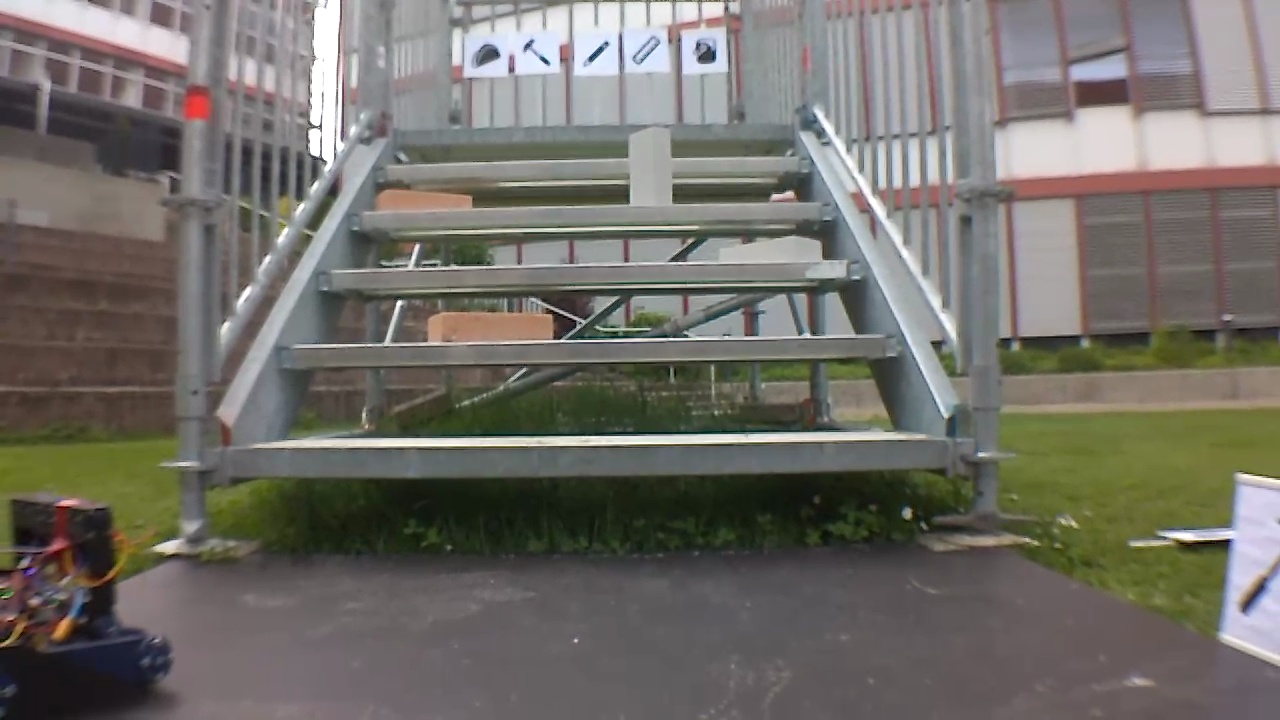brick: (428, 311, 552, 341), (629, 126, 672, 205), (376, 190, 469, 208)
bucket: (690, 33, 722, 66)
edge: (230, 437, 946, 476), (278, 335, 899, 362), (318, 259, 865, 288), (350, 202, 839, 223), (374, 157, 816, 178), (397, 124, 796, 140)
hammer: (515, 36, 554, 71)
pencil: (577, 36, 614, 71)
ruler: (630, 31, 666, 66)
stairs: (160, 3, 1030, 546)
steps: (222, 121, 956, 481)
taco: (468, 39, 505, 72)
